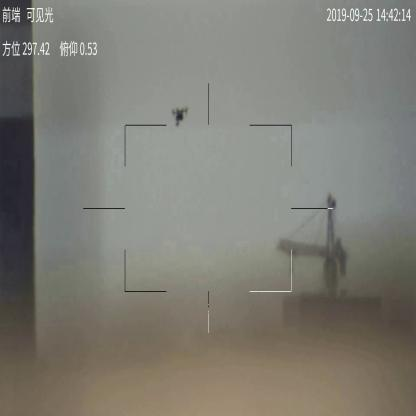uav: (170, 105, 191, 128)
